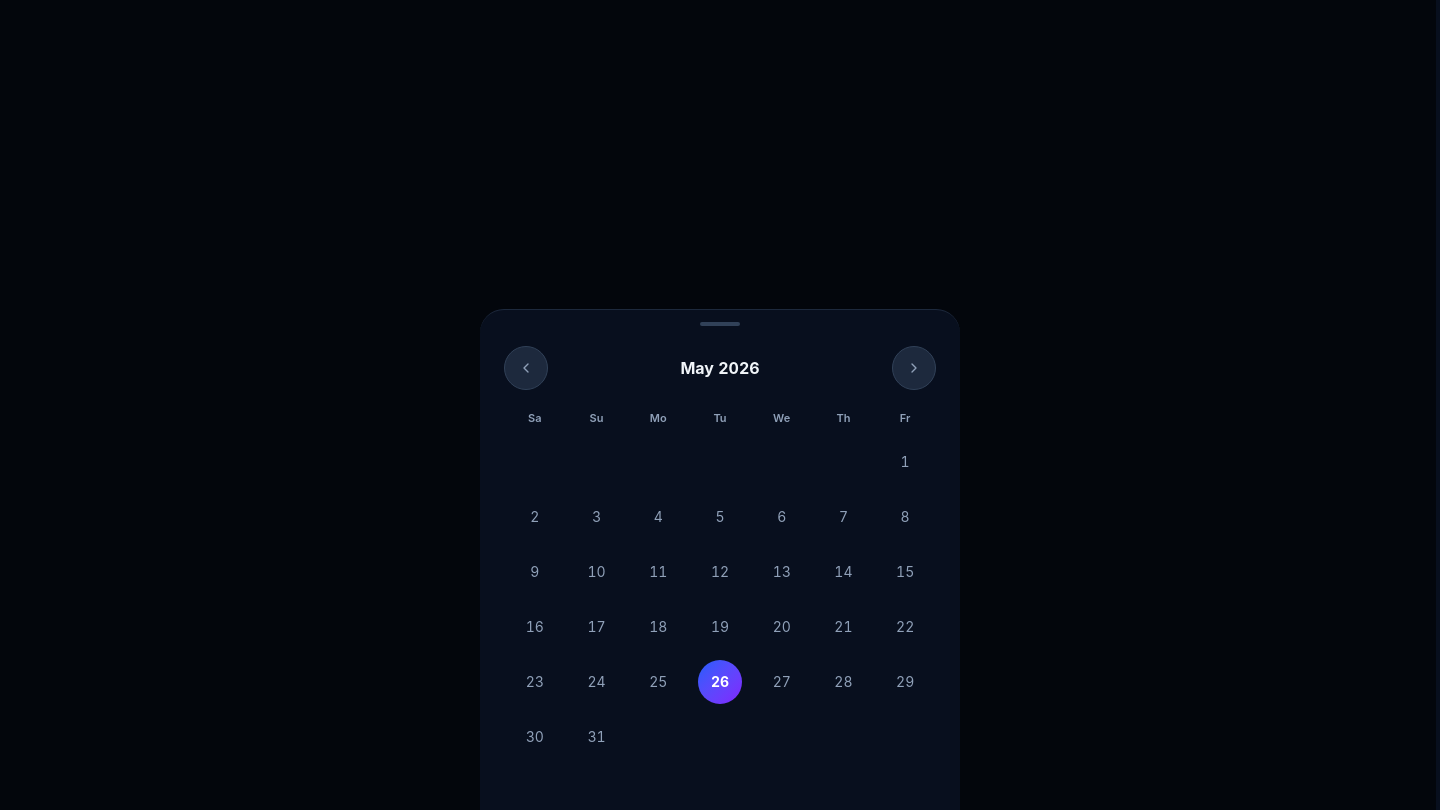
DatePickerSheet › navigates to the next month on next-month click
This screenshot has width=1440, height=810.
Click the button named "next month" at point(914, 368), box x1=892 y1=346 x2=936 y2=390
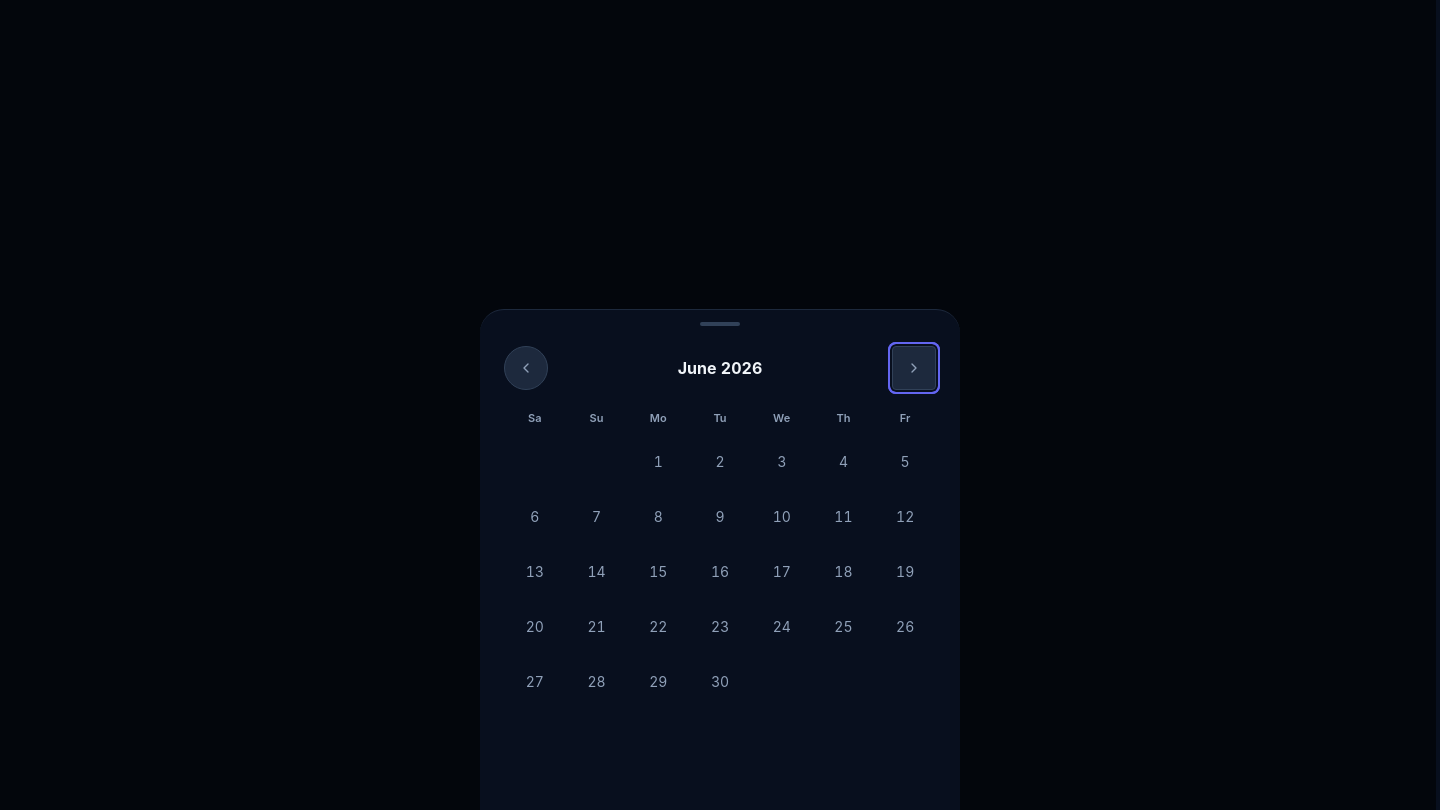
Result: the text "June 2026" is shown at x1=678 y1=356 x2=762 y2=380
